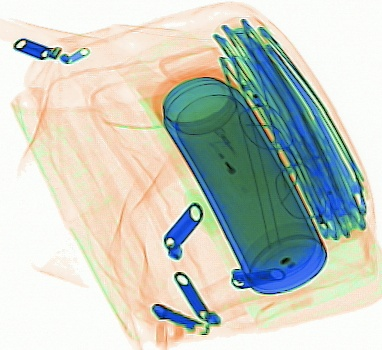lighter: (199, 123, 263, 202)
